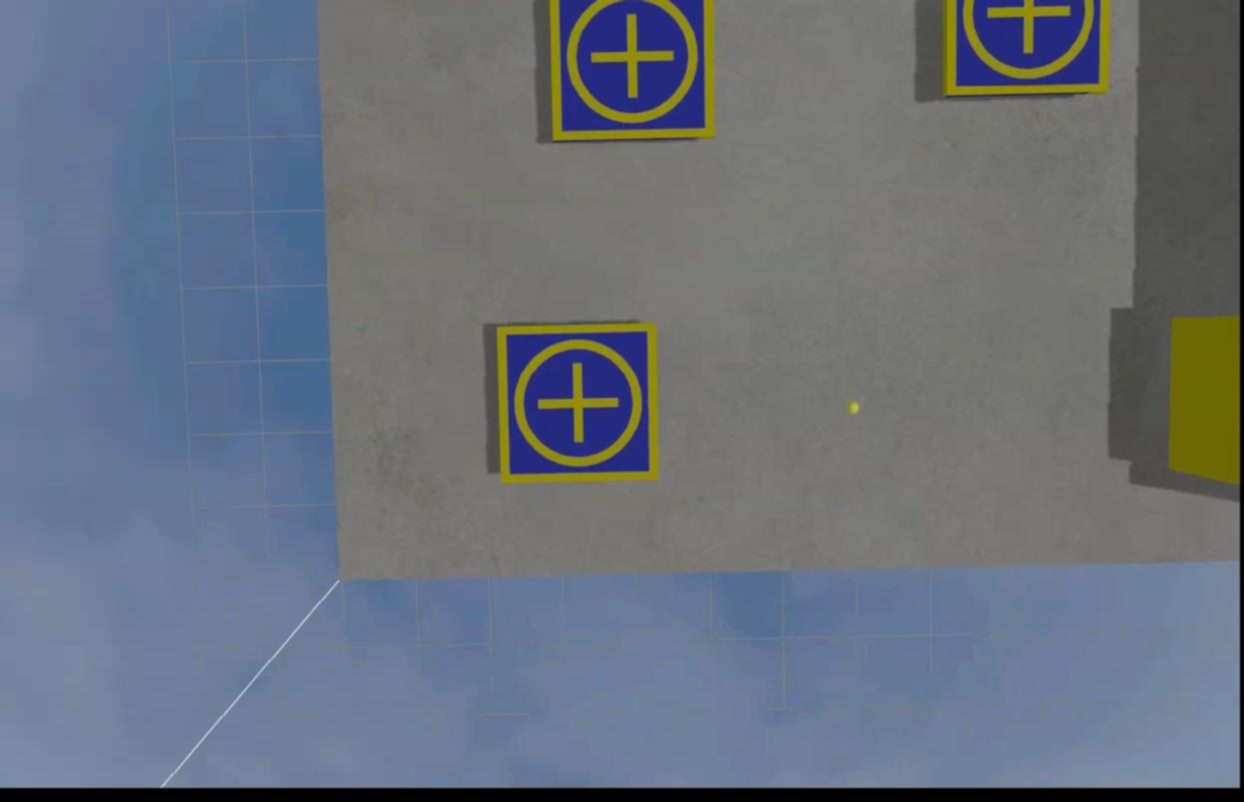small_base: (497, 324, 663, 486), (549, 1, 718, 144), (940, 1, 1114, 96)
